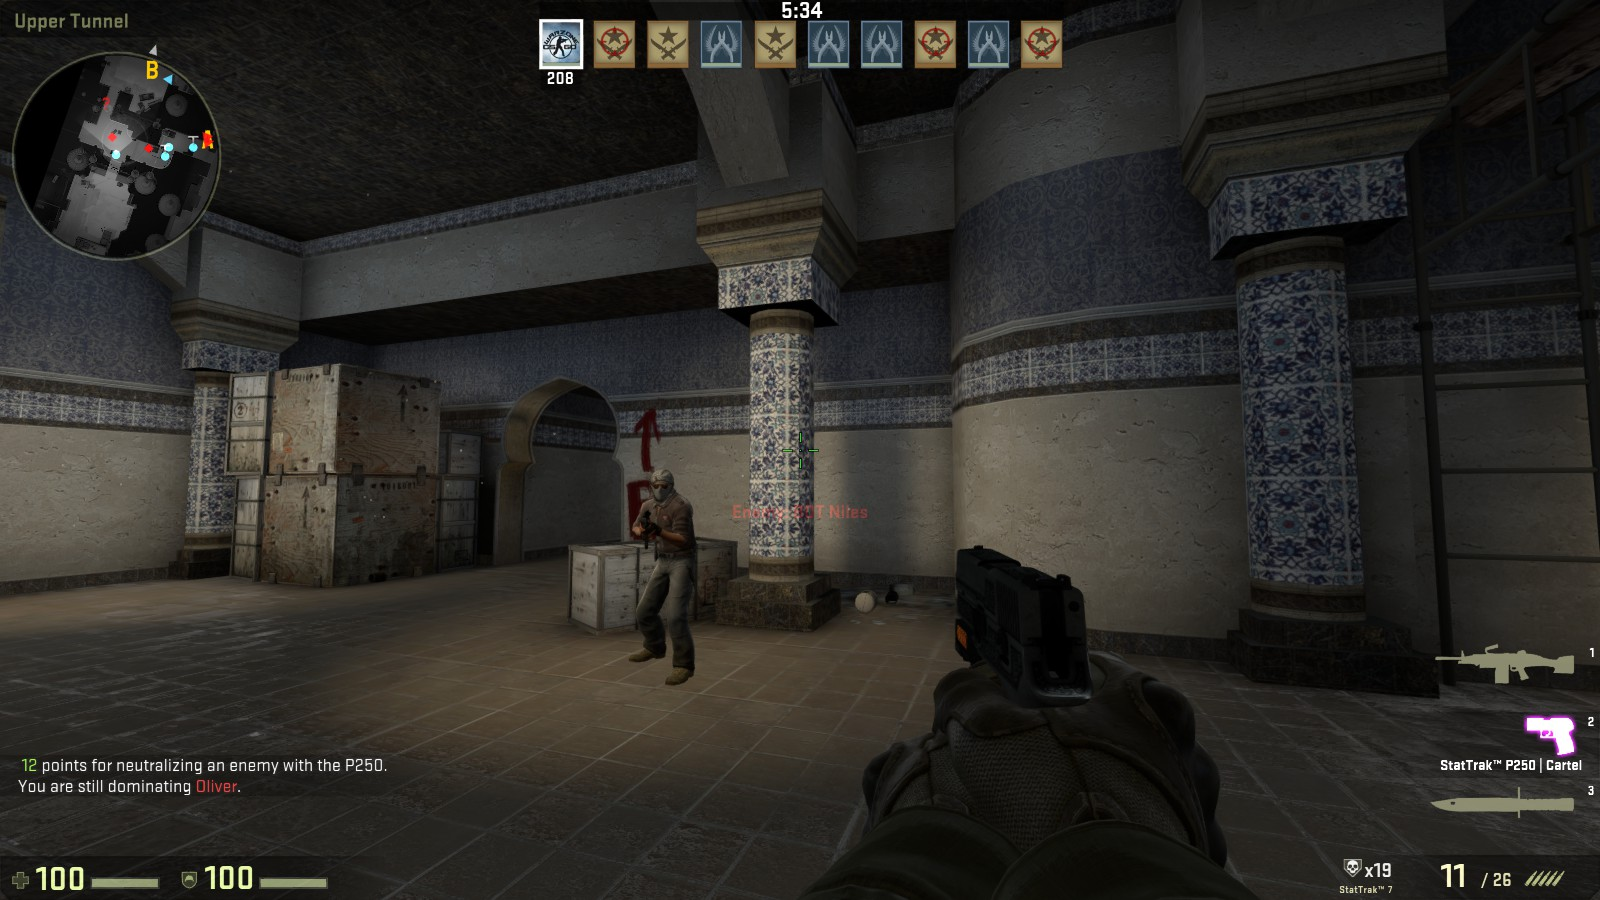t: (636, 467, 696, 684)
th: (649, 469, 676, 501)
